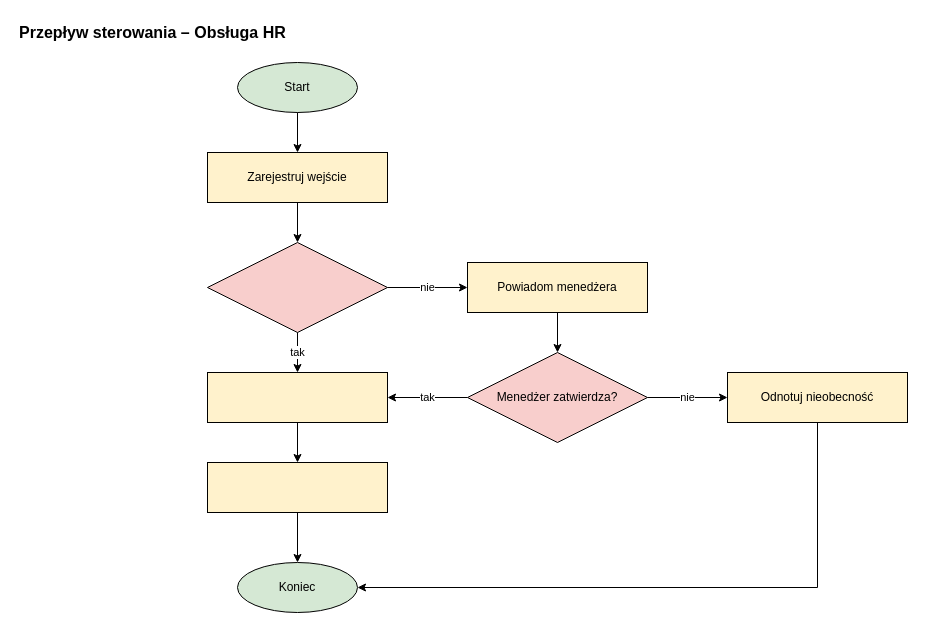
Image size: 925x630. Some labels were removed from this diagram. The centre of each missing label's shape, as x and y in pixels:
"Rozpocznij zmianę" belongs at (x=297, y=397).
"Zarejestruj wyjście i zapisz czas" belongs at (x=297, y=487).
"Zgodnie z grafikiem?" belongs at (x=297, y=287).
